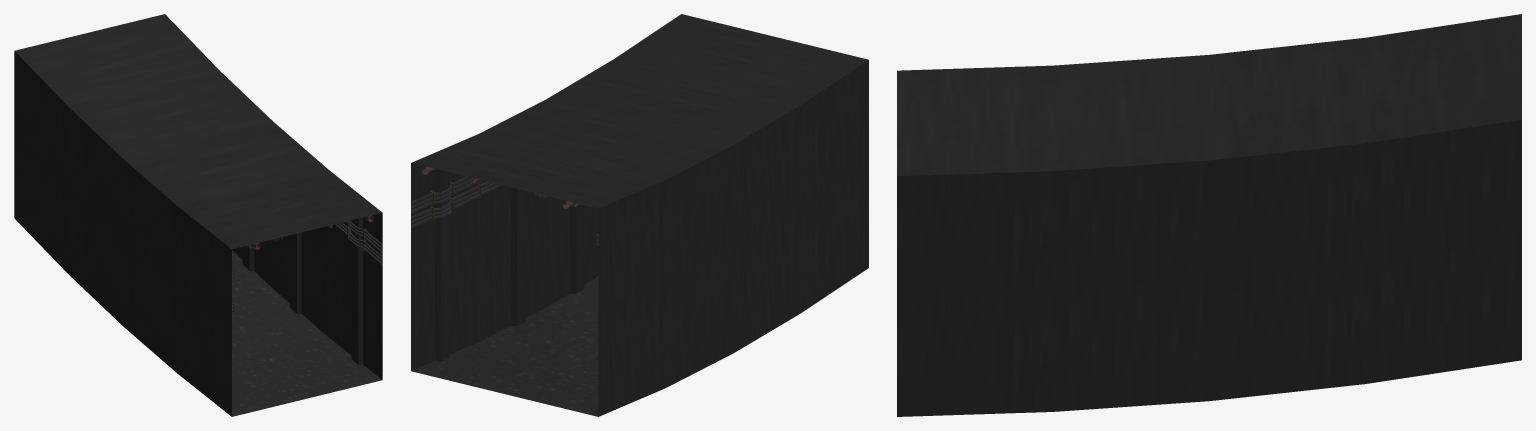
Rendered from SW_ENV_RailTunnel_Riser_A_Single_10m_FF.fbx.
The picture shows the model from 3 angles, left to right: view 1: azimuth 30°, elevation 25°; view 2: azimuth 150°, elevation 25°; view 3: azimuth 270°, elevation 25°; orthographic projection. The views are drawn at different scales.
Parts seen in each view (by area): view 1: SW_ENV_RailTunnel_Riser_A_Single_10m_FF; view 2: SW_ENV_RailTunnel_Riser_A_Single_10m_FF; view 3: SW_ENV_RailTunnel_Riser_A_Single_10m_FF.
Boxes of the visible parts, x1=… form: SW_ENV_RailTunnel_Riser_A_Single_10m_FF: x1=14, y1=14, x2=382, y2=416; SW_ENV_RailTunnel_Riser_A_Single_10m_FF: x1=411, y1=14, x2=868, y2=416; SW_ENV_RailTunnel_Riser_A_Single_10m_FF: x1=897, y1=14, x2=1521, y2=416.
Size of the model in its own units: 4 by 5.25 by 10.
